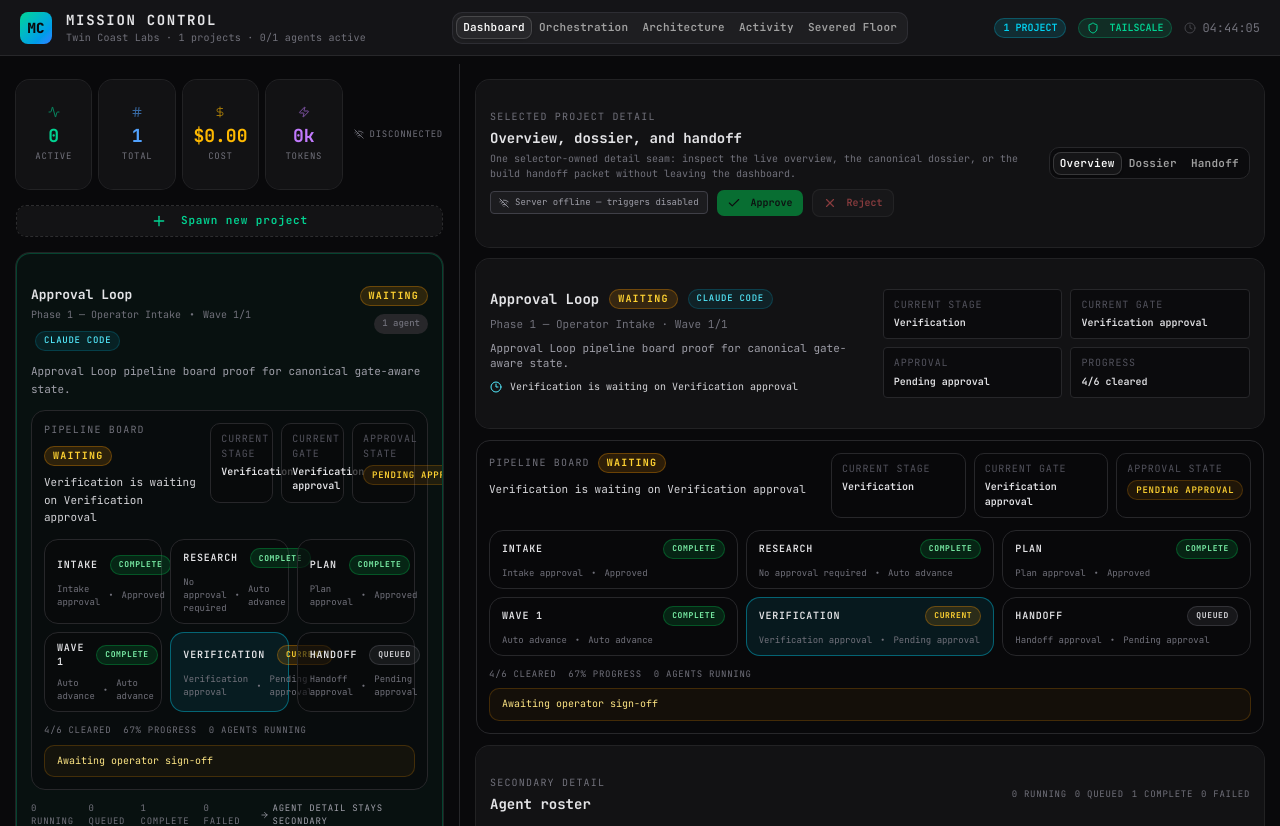
Test: MissionControl pipeline board › surfaces waiting approval state in the dashboard and reuses the same stage/gate truth in orchestration
Expected: the element with test id "dashboard-project-pipeline-approval-loop" is shown, [31,410,428,790]
Expected: the text with test id "dashboard-project-badge-approval-loop" reads "Waiting", [369,289,419,302]
Click the tab "Orchestration". click: (584, 28)
box: [532,16,635,39]
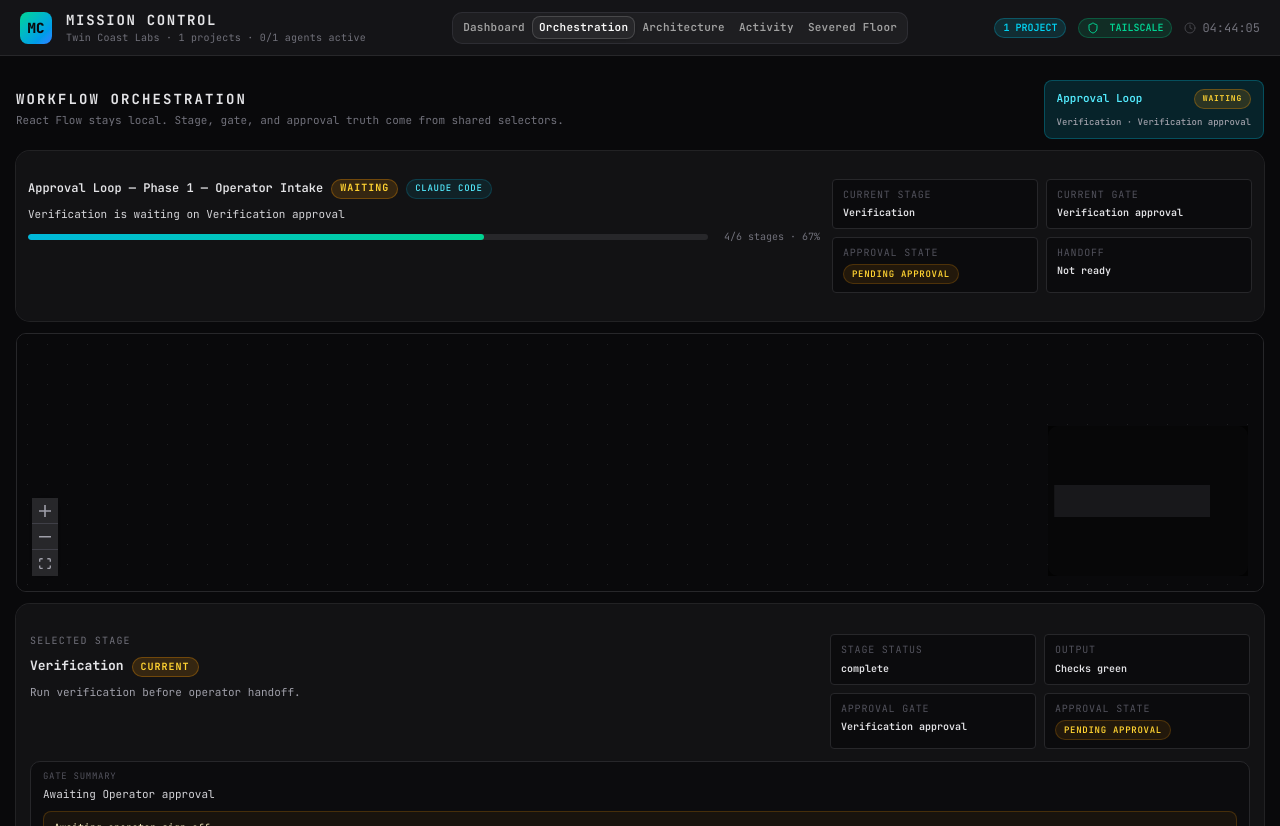
Now the text "Approval Loop — Phase 1 — Operator Intake" is shown, box [28,180,323,197]
Now the text with test id "orchestration-selected-stage-summary" reads "Awaiting Operator approval", box [43,787,215,801]
Now the text "Checks green" is shown, box [1055,662,1127,675]
